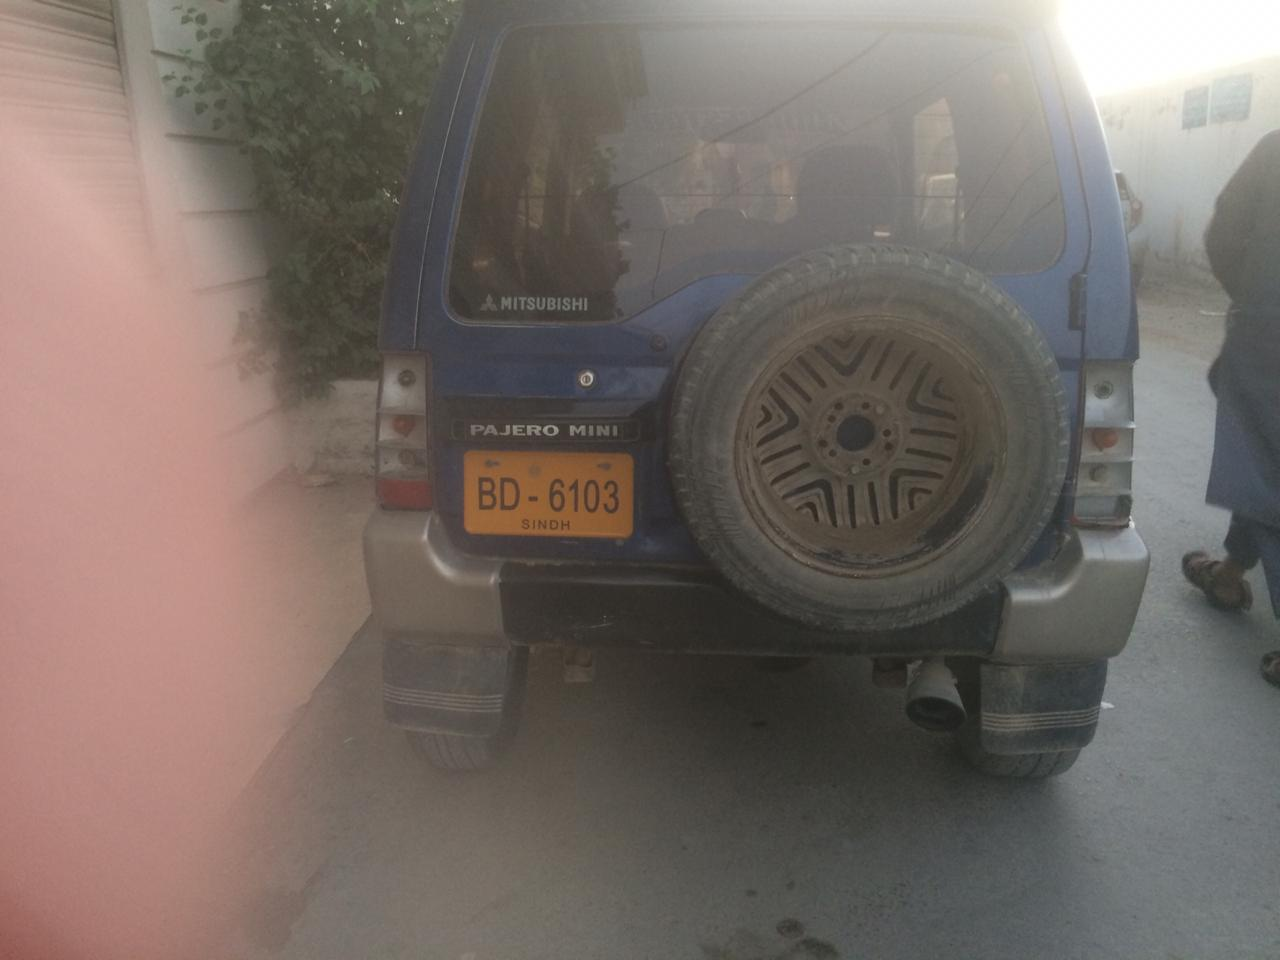license plate: (456, 447, 636, 543)
